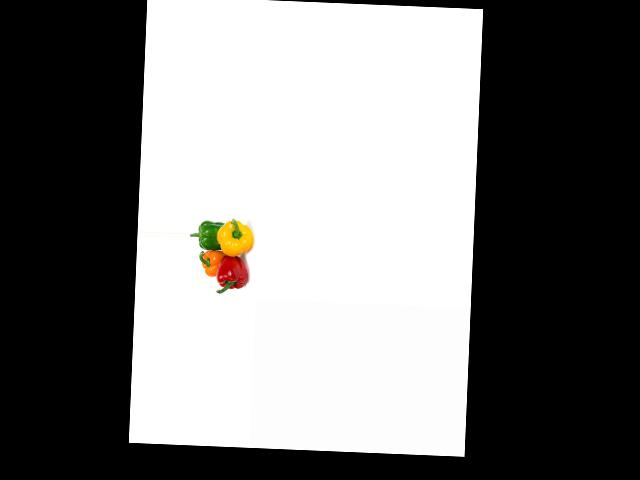bell_pepper: (216, 216, 255, 258)
